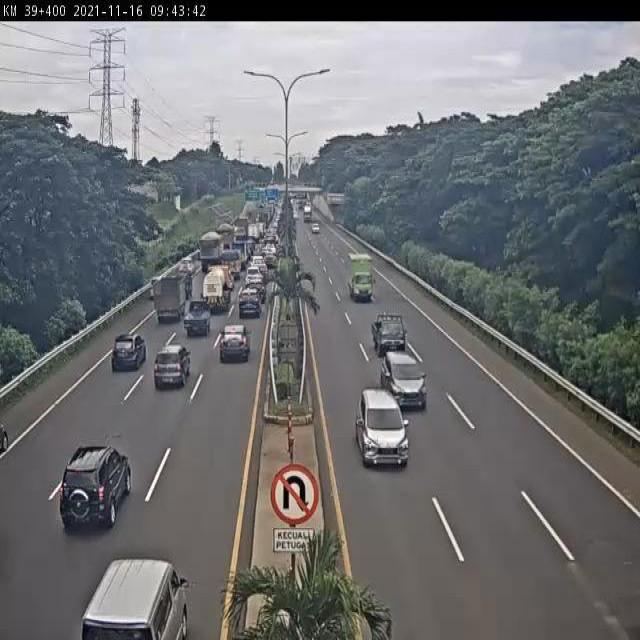car: (77, 546, 193, 640), (57, 438, 132, 538), (351, 386, 412, 478), (376, 347, 430, 417), (153, 344, 192, 395), (108, 332, 146, 377), (216, 320, 250, 364), (372, 311, 407, 353), (182, 300, 212, 343), (237, 289, 263, 319), (244, 275, 267, 304), (176, 254, 197, 278), (244, 265, 264, 288), (251, 253, 266, 272), (264, 251, 278, 268)
small truck: (150, 270, 189, 326), (344, 246, 379, 306), (220, 248, 244, 280)
truck-m-: (203, 263, 234, 313), (197, 232, 225, 276), (212, 223, 232, 252)
